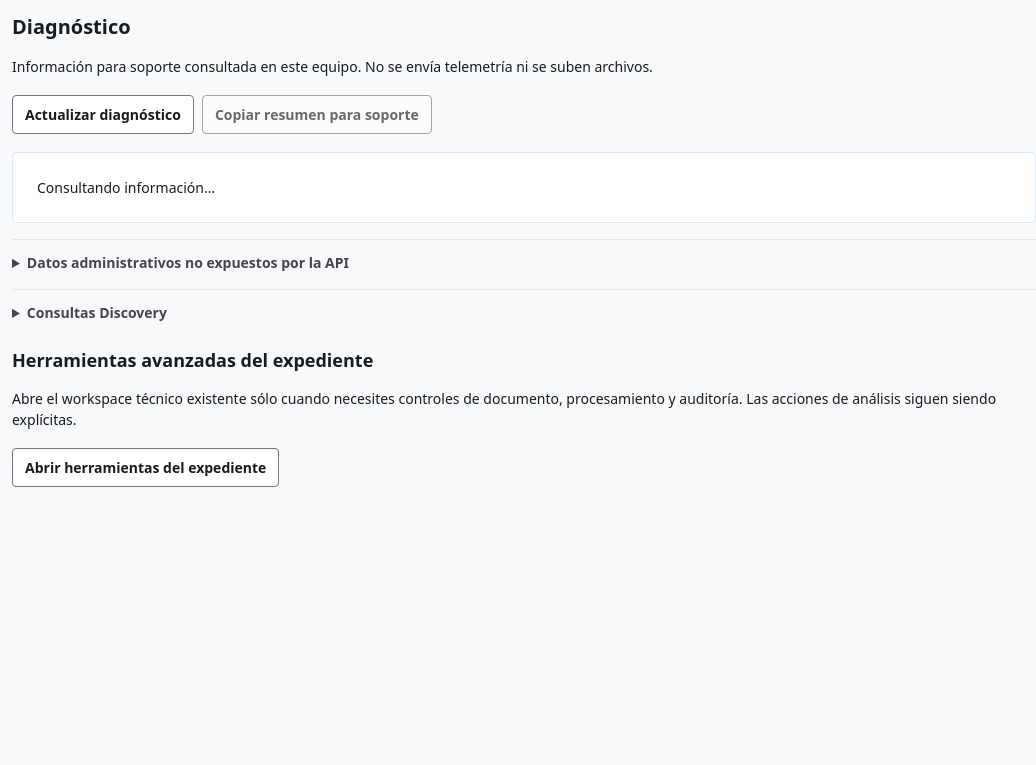
Test case: late diagnostic refresh cannot replace newer refresh
This screenshot has width=1036, height=765.
Click the button "Actualizar diagnóstico" at (103, 114), box [12,95,194,134]
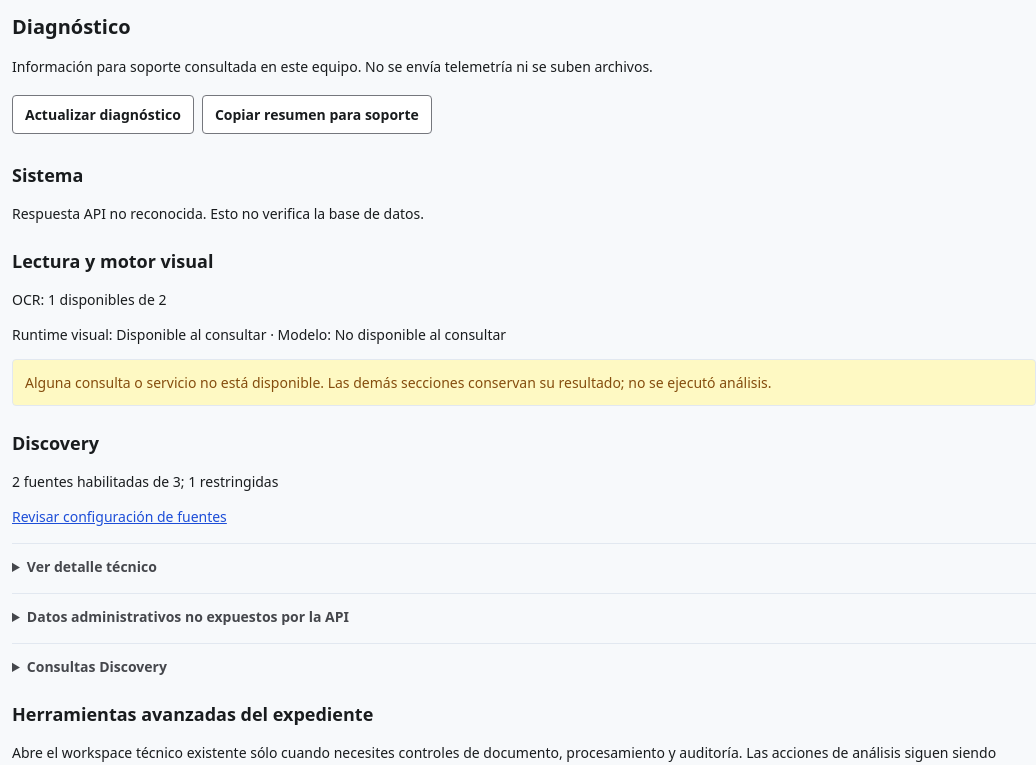
Check: the text "Respuesta API no reconocida" is shown, box [12,204,203,223]
